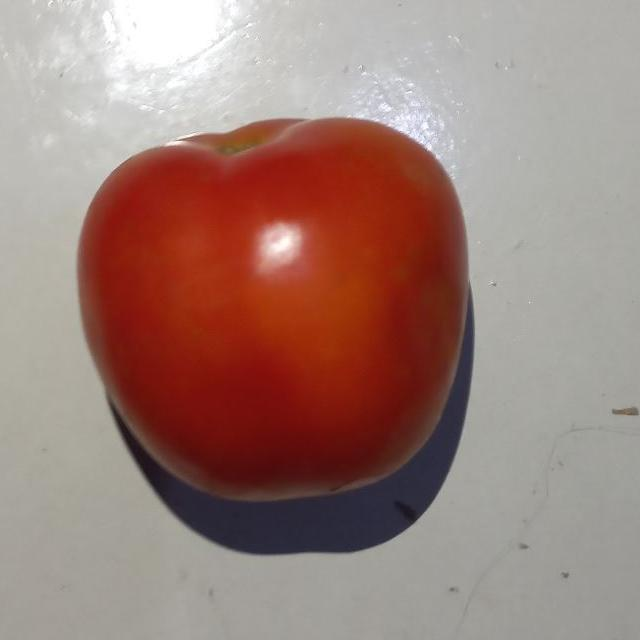tomato: (64, 110, 481, 529)
